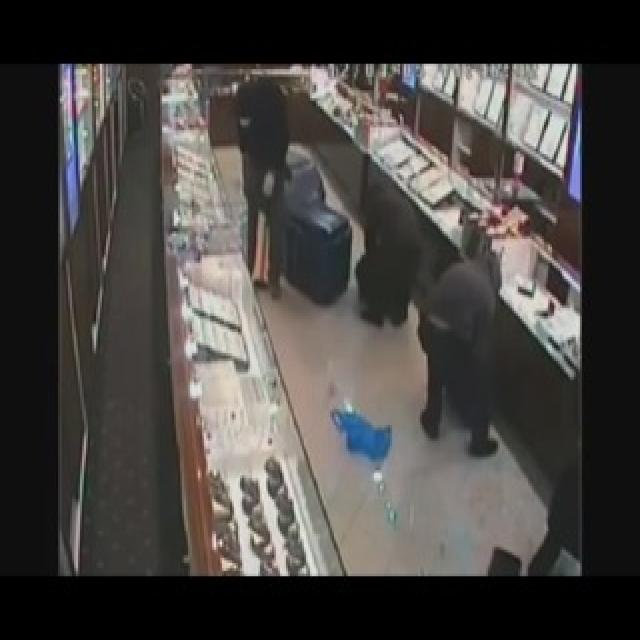thief: (228, 74, 294, 169), (343, 192, 348, 196)
